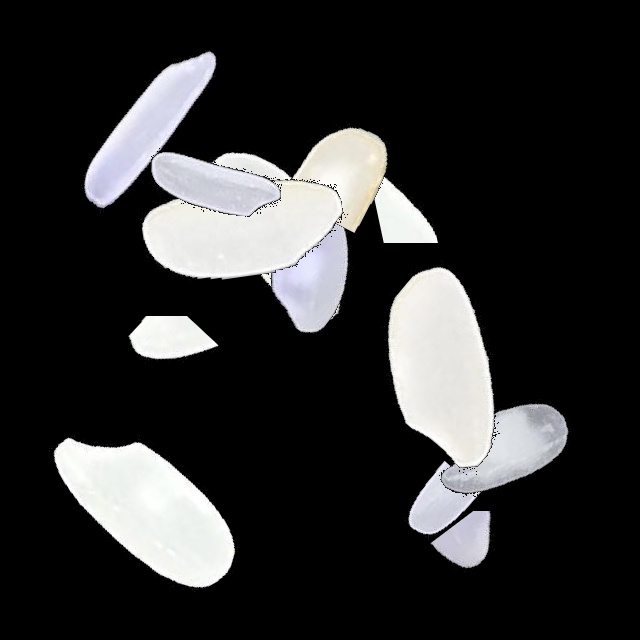Broken: (281, 28, 418, 278), (297, 460, 547, 580), (304, 130, 554, 243), (366, 511, 616, 620), (42, 316, 292, 414), (394, 210, 478, 460), (467, 336, 544, 586)
Full: (153, 113, 403, 363), (28, 2, 278, 252), (186, 141, 436, 391), (378, 323, 628, 573), (119, 103, 369, 353), (325, 242, 575, 492), (20, 381, 270, 631), (92, 58, 342, 308)
